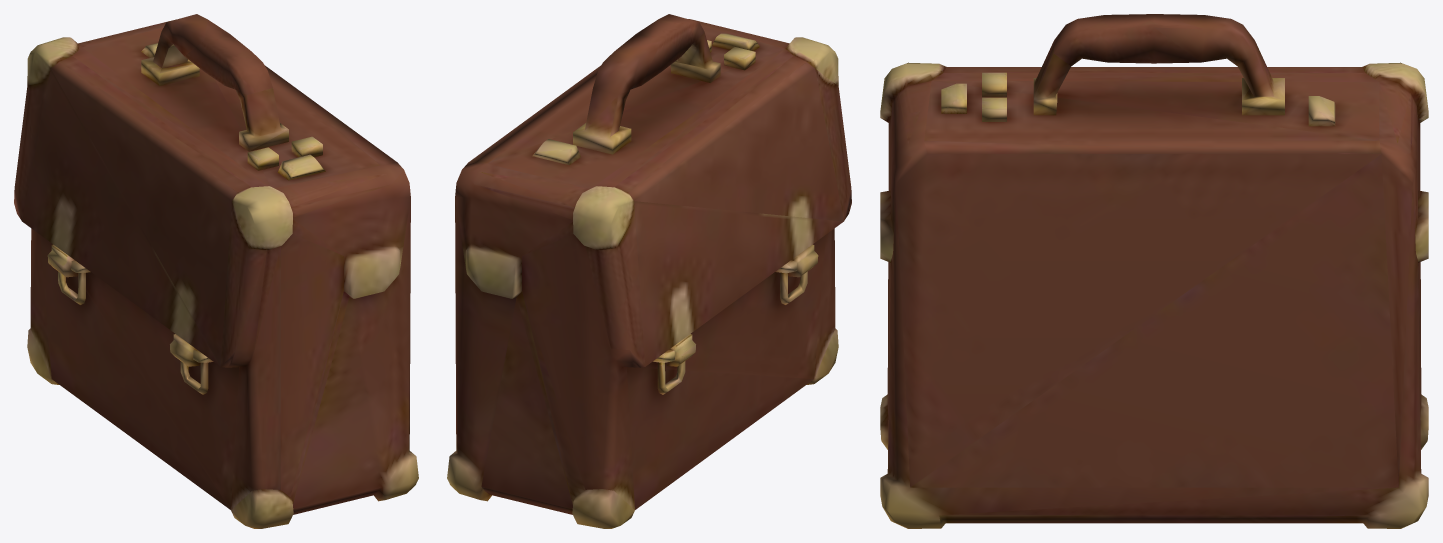
The model's file is prop_briefcase.glb.
3 views of the same model, side by side, from view 1: azimuth 30°, elevation 25°; view 2: azimuth 150°, elevation 25°; view 3: azimuth 270°, elevation 25° (orthographic). The views are drawn at different scales.
Parts seen in each view (by area): view 1: prop_briefcase/body; view 2: prop_briefcase/body; view 3: prop_briefcase/body.
Boxes of the visible parts, left/top/right/bottom form: prop_briefcase/body: left=14, top=14, right=418, bottom=528; prop_briefcase/body: left=447, top=14, right=851, bottom=528; prop_briefcase/body: left=880, top=14, right=1428, bottom=528.
Bounding box in the file's own units: 0.4638 × 0.9413 × 1.
Materials: 1 (1 with a texture image).
